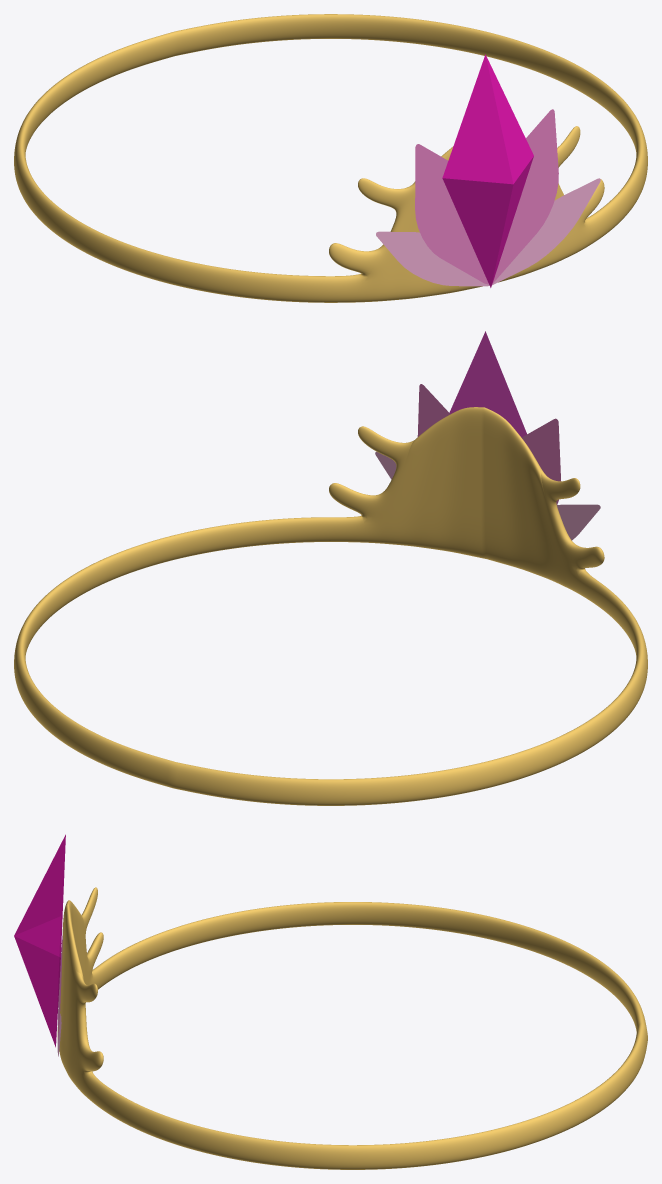
File: grom_queen_tiara.glb
3 renders of one model, top to bottom at view 1: azimuth 30°, elevation 25°; view 2: azimuth 150°, elevation 25°; view 3: azimuth 270°, elevation 25°, orthographic. The views are drawn at different scales.
Visible parts, largest first — view 1: Tiara_0, Gem_1, Large petal_2, Large petal.001_5, Small Petal_3, Small Petal.001_4; view 2: Tiara_0, Gem_1, Large petal_2, Small Petal.001_4, Large petal.001_5; view 3: Tiara_0, Gem_1.
Part boxes in pixels (<box>): Tiara_0: <box>14,14,647,302</box>; Gem_1: <box>442,54,533,287</box>; Large petal_2: <box>415,144,488,284</box>; Large petal.001_5: <box>488,109,558,283</box>; Small Petal_3: <box>492,178,600,285</box>; Small Petal.001_4: <box>376,231,489,286</box>; Tiara_0: <box>14,407,647,805</box>; Gem_1: <box>449,331,526,437</box>; Large petal_2: <box>521,418,560,504</box>; Small Petal.001_4: <box>557,504,600,540</box>; Large petal.001_5: <box>417,384,450,436</box>; Tiara_0: <box>57,887,647,1169</box>; Gem_1: <box>14,834,65,1047</box>.
Bounding box in the file's own units: 3.53 × 1.42 × 3.8.
